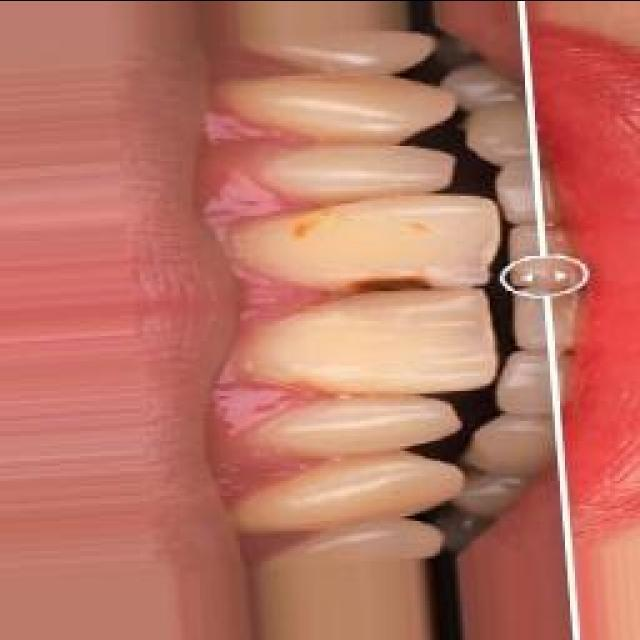decay: (353, 273, 435, 293)
